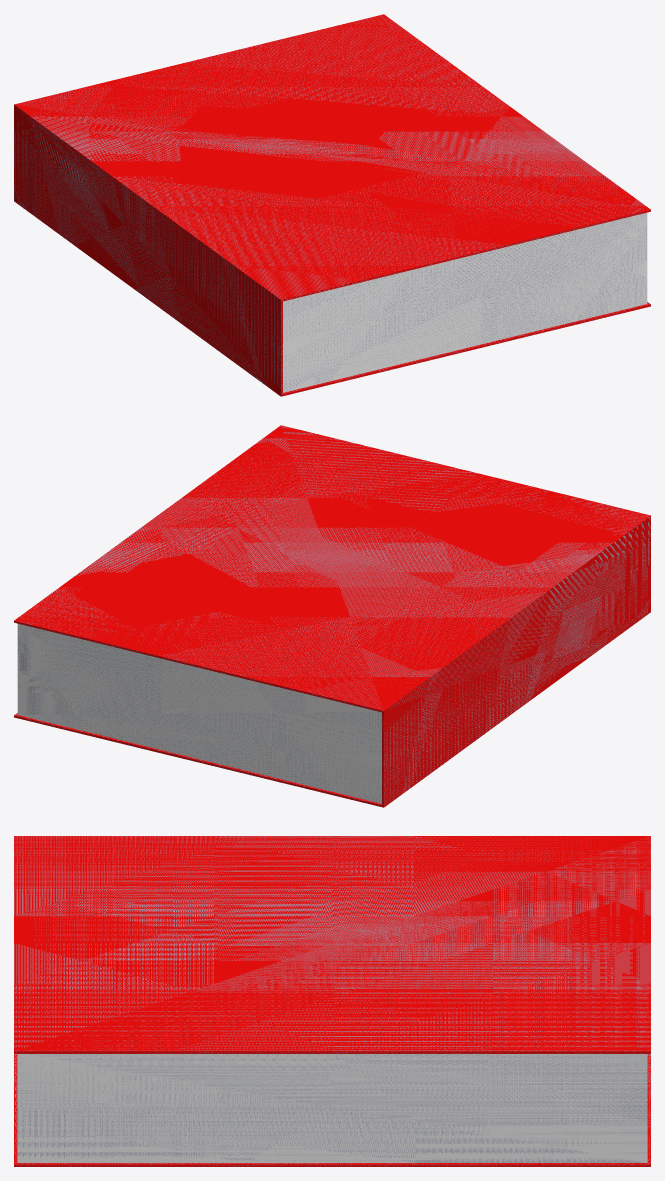
Rendered from redbook.dae.
The picture shows the model from 3 angles, top to bottom: view 1: azimuth 30°, elevation 25°; view 2: azimuth 150°, elevation 25°; view 3: azimuth 270°, elevation 25°; orthographic projection. The views are drawn at different scales.
Parts seen in each view (by area): view 1: SketchUp (×2); view 2: SketchUp (×2); view 3: SketchUp (×2).
Part boxes in pixels (box(x1,y1,x2,y2)): SketchUp (×2): box(14, 14, 650, 396); SketchUp (×2): box(14, 425, 650, 807); SketchUp (×2): box(14, 836, 650, 1166).
Size of the model in its own units: 9.6 by 12 by 2.4.
